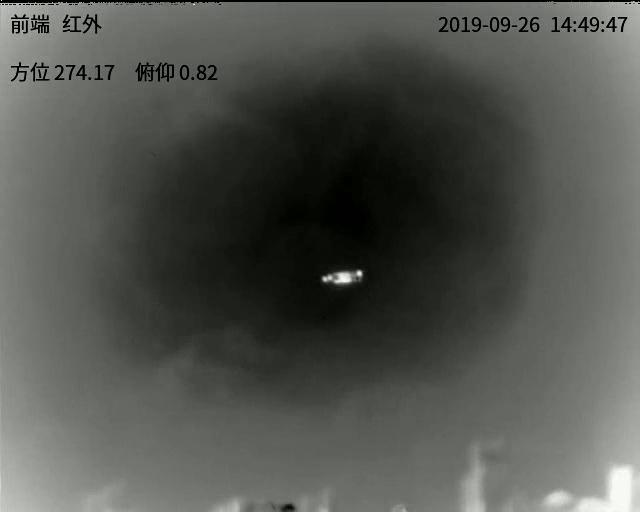DRONE: (319, 266, 366, 286)
